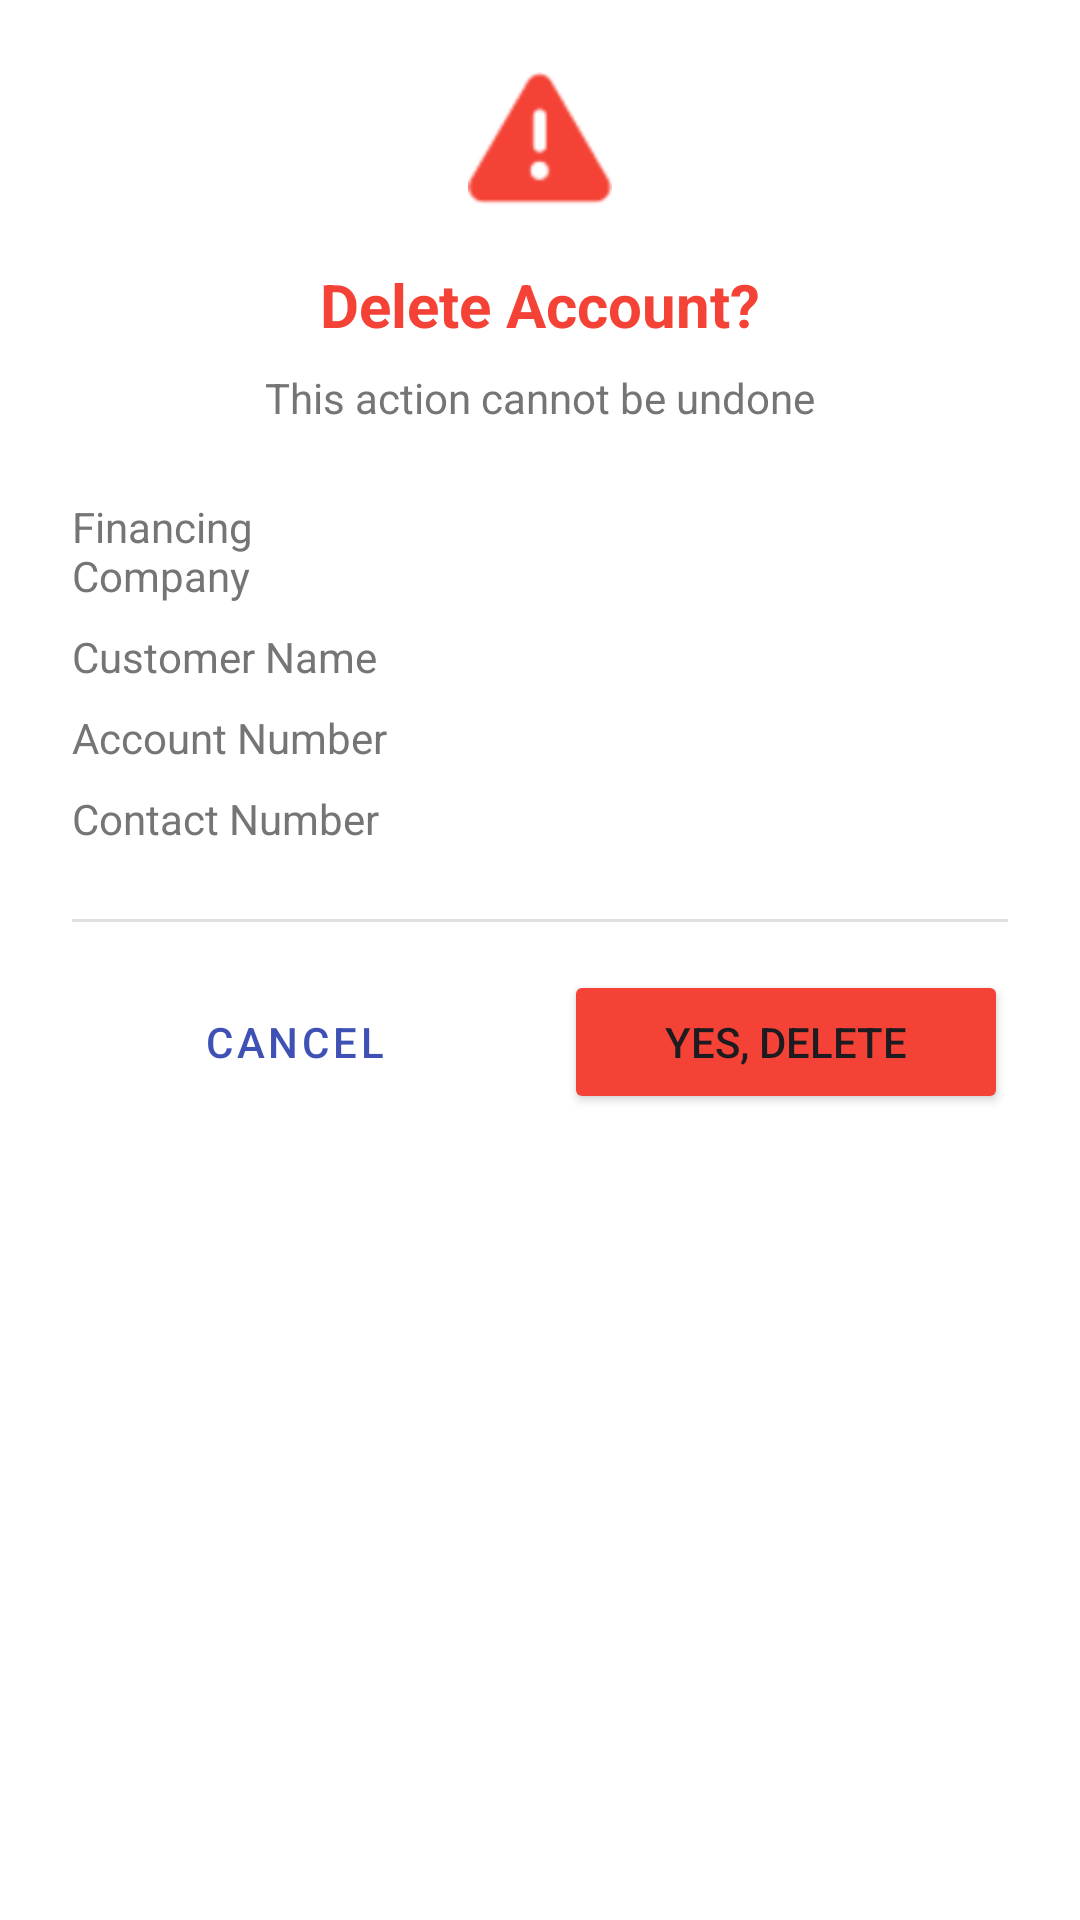

Named icons in this screenshot (1080 x 1920) and their centers, point (x, y):
Warning Icon: point (540, 137)
